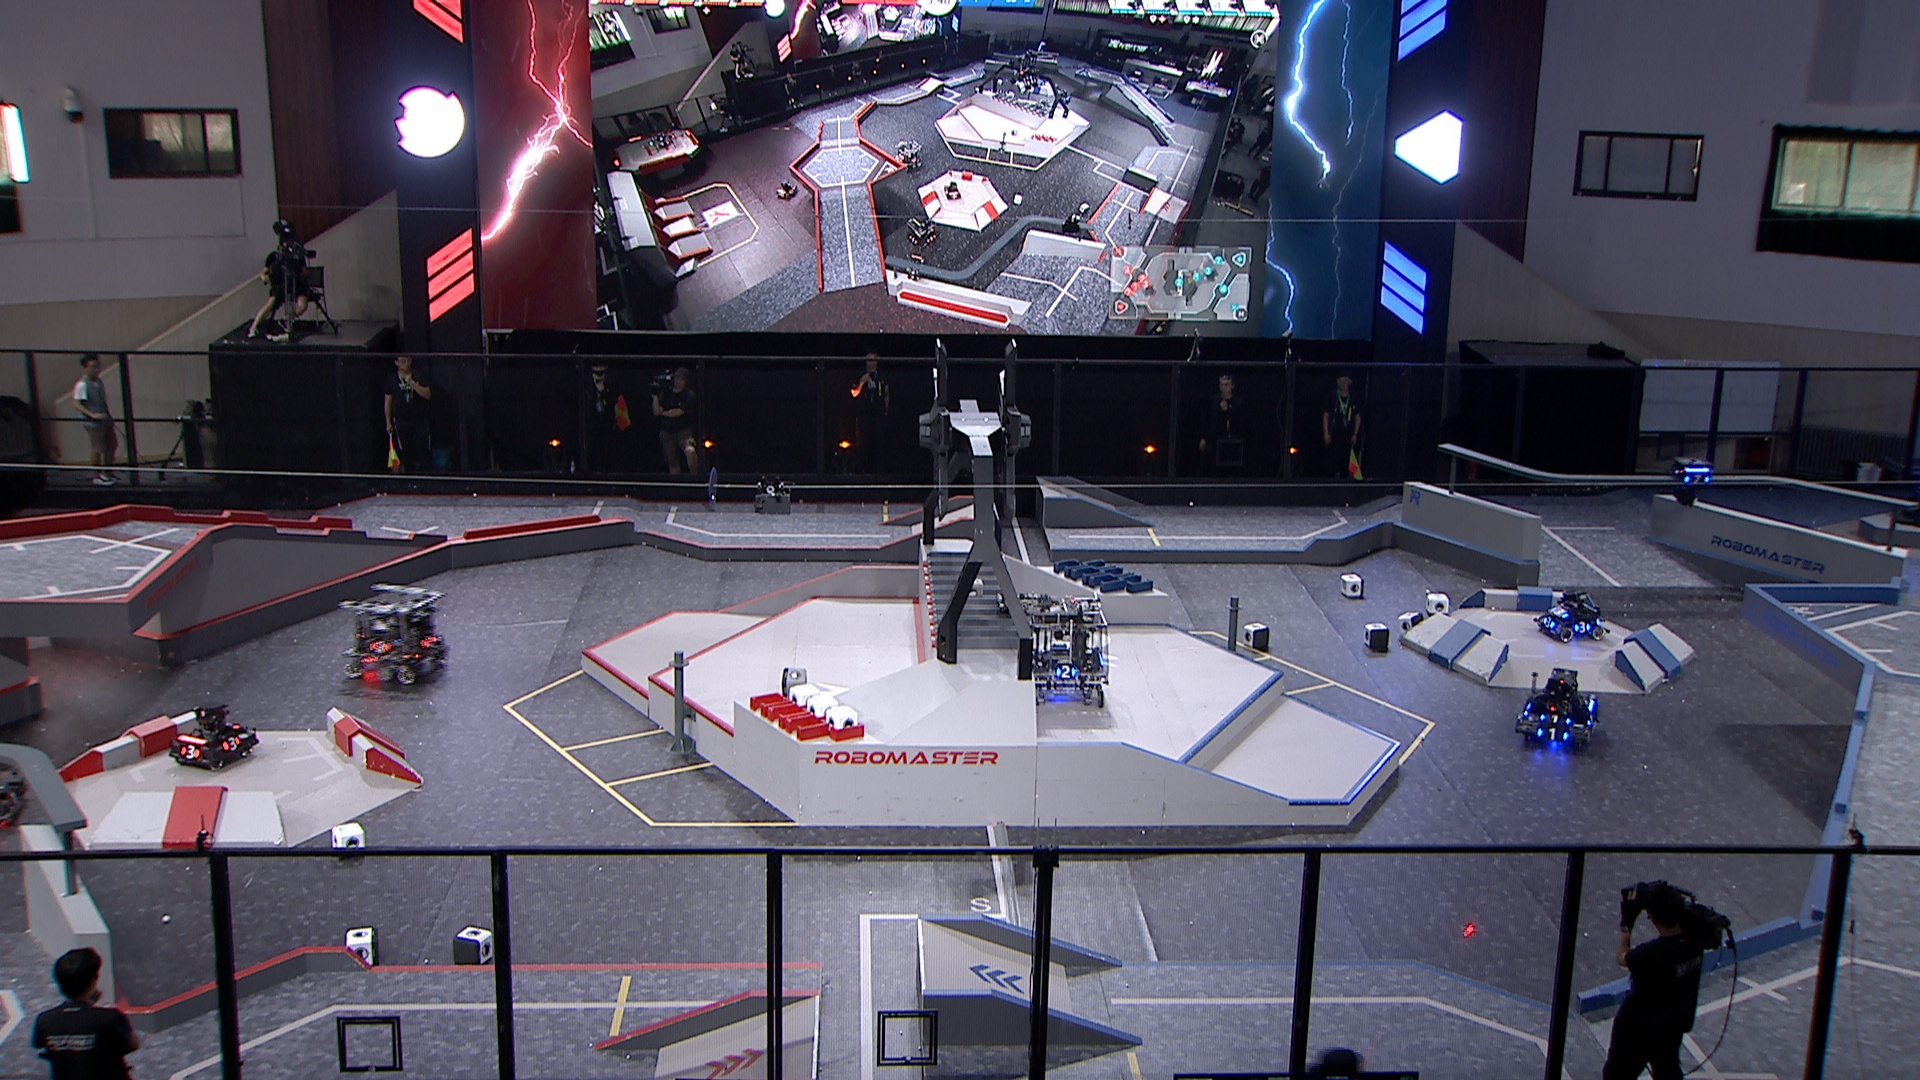armor: (1536, 727, 1571, 744), (1054, 662, 1081, 680), (1538, 712, 1572, 727), (5, 789, 26, 808), (179, 745, 202, 764), (1684, 473, 1712, 488), (371, 638, 392, 655), (222, 735, 243, 752), (1584, 712, 1598, 731), (1572, 622, 1592, 636), (1551, 605, 1571, 618), (422, 633, 436, 650), (1542, 617, 1557, 632)
car: (340, 582, 452, 687), (1017, 593, 1112, 708), (169, 700, 264, 774), (1516, 669, 1604, 745), (1536, 588, 1610, 642)
ignore: (907, 214, 939, 247), (895, 138, 926, 171), (903, 251, 926, 284), (775, 179, 798, 200), (945, 181, 963, 202), (1034, 40, 1050, 55), (1058, 88, 1073, 104)
watcher: (1667, 456, 1716, 506)
